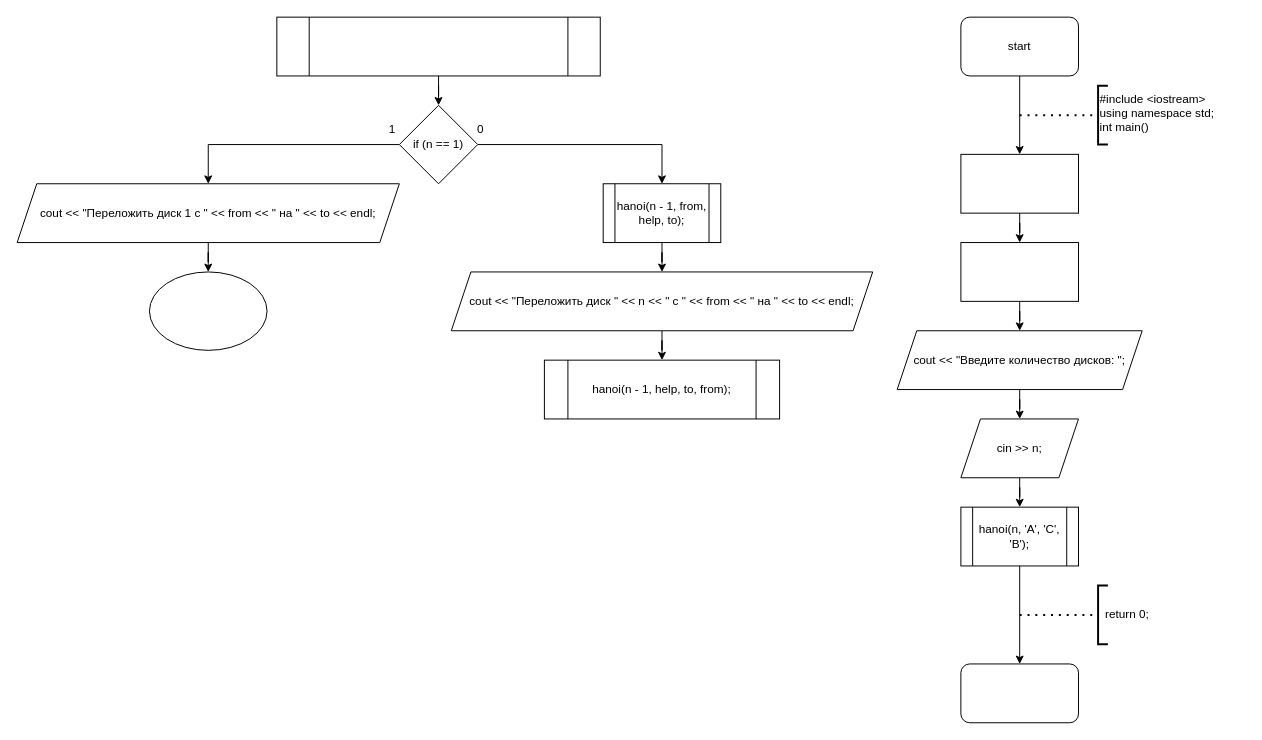
Some shapes in this 1262 by 740 pixel diagram are drawn without their labels. The centre of each missing label's shape, as x and y in pixels:
end: pixel 1019 693
int n;: pixel 1019 271
return;: pixel 207 310
setlocale(LC_ALL, "Russian");: pixel 1019 183
void hanoi(int n, char from, char to, char help): pixel 438 46
